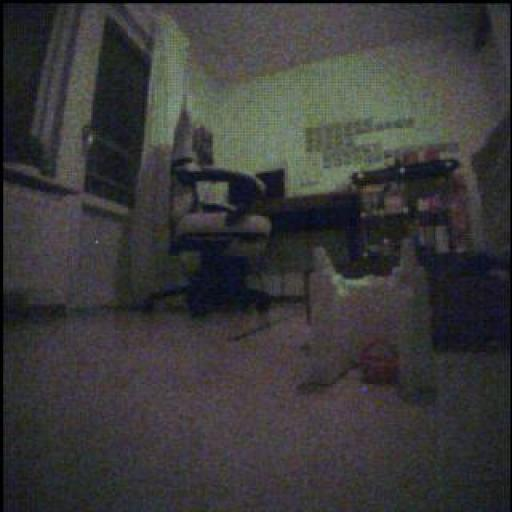basket: (361, 340, 399, 385)
